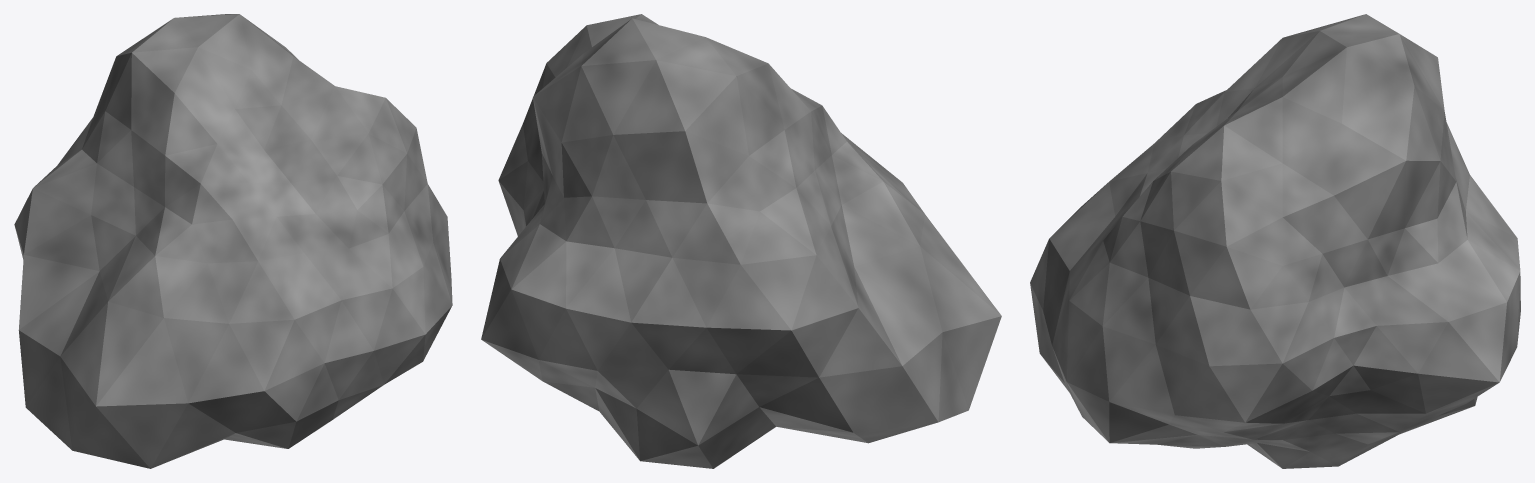
Rendered from asteroid4.glb.
The picture shows the model from 3 angles, left to right: view 1: azimuth 30°, elevation 25°; view 2: azimuth 150°, elevation 25°; view 3: azimuth 270°, elevation 25°; orthographic projection. The views are drawn at different scales.
Visible parts, largest first — view 1: Icosphere.011; view 2: Icosphere.011; view 3: Icosphere.011.
Boxes of the visible parts, <box> form: Icosphere.011: <box>14,14,452,468</box>; Icosphere.011: <box>481,14,1001,468</box>; Icosphere.011: <box>1030,14,1520,468</box>.
Size of the model in its own units: 11.44 by 10.31 by 10.53.
1 material, 1 textured.
